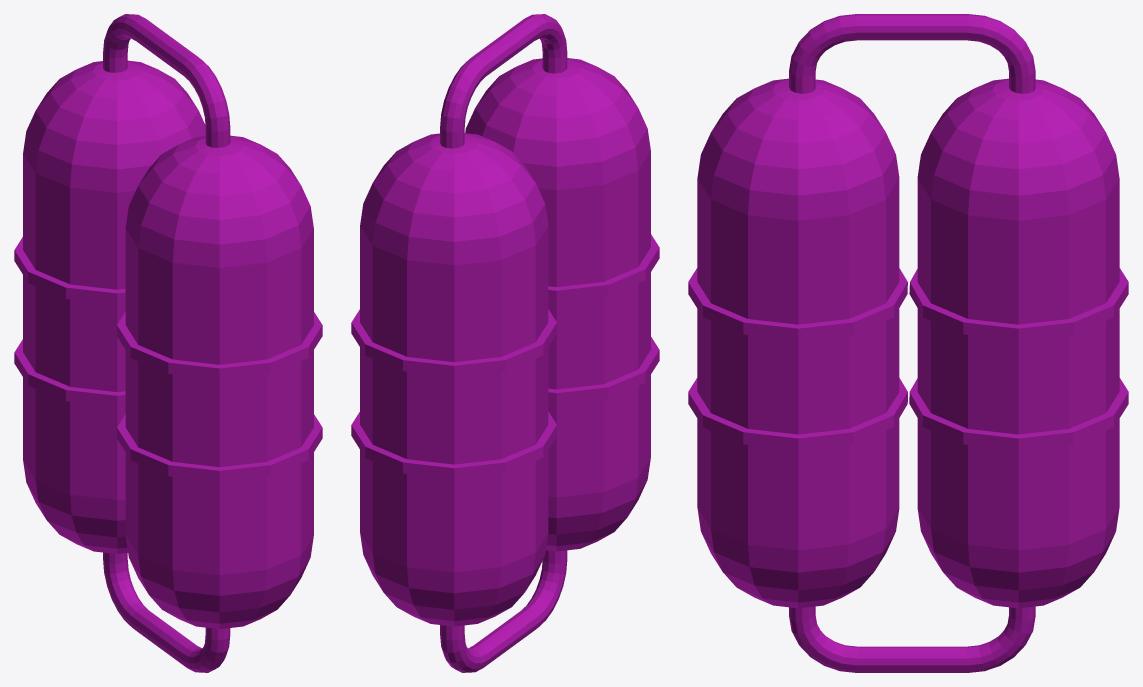
The model's file is Machinerie_petite.FBX.
3 renders of one model, left to right at view 1: azimuth 30°, elevation 25°; view 2: azimuth 150°, elevation 25°; view 3: azimuth 270°, elevation 25°, orthographic. The views are drawn at different scales.
Visible parts, largest first — view 1: Capsules; view 2: Capsules; view 3: Capsules.
Boxes of the visible parts, left/top/right/bottom form: Capsules: left=14, top=14, right=322, bottom=672; Capsules: left=351, top=14, right=659, bottom=672; Capsules: left=688, top=14, right=1128, bottom=672.
Bounding box in the file's own units: 127 × 417 × 254.
